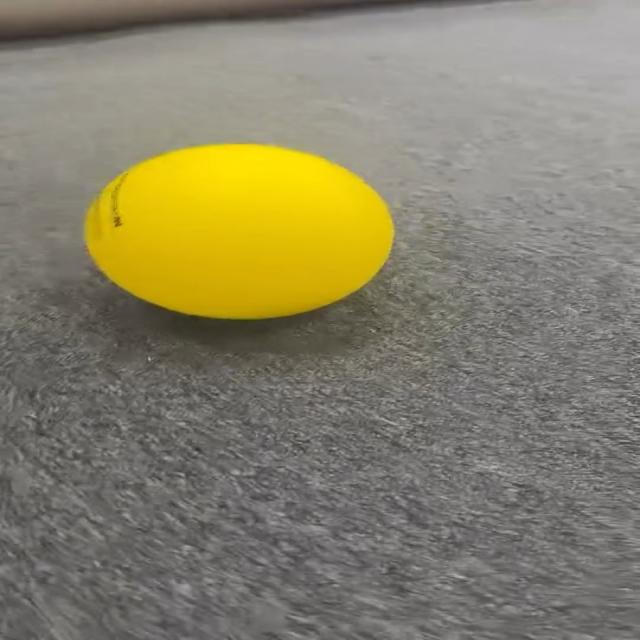Fuels: (87, 145, 392, 315)
